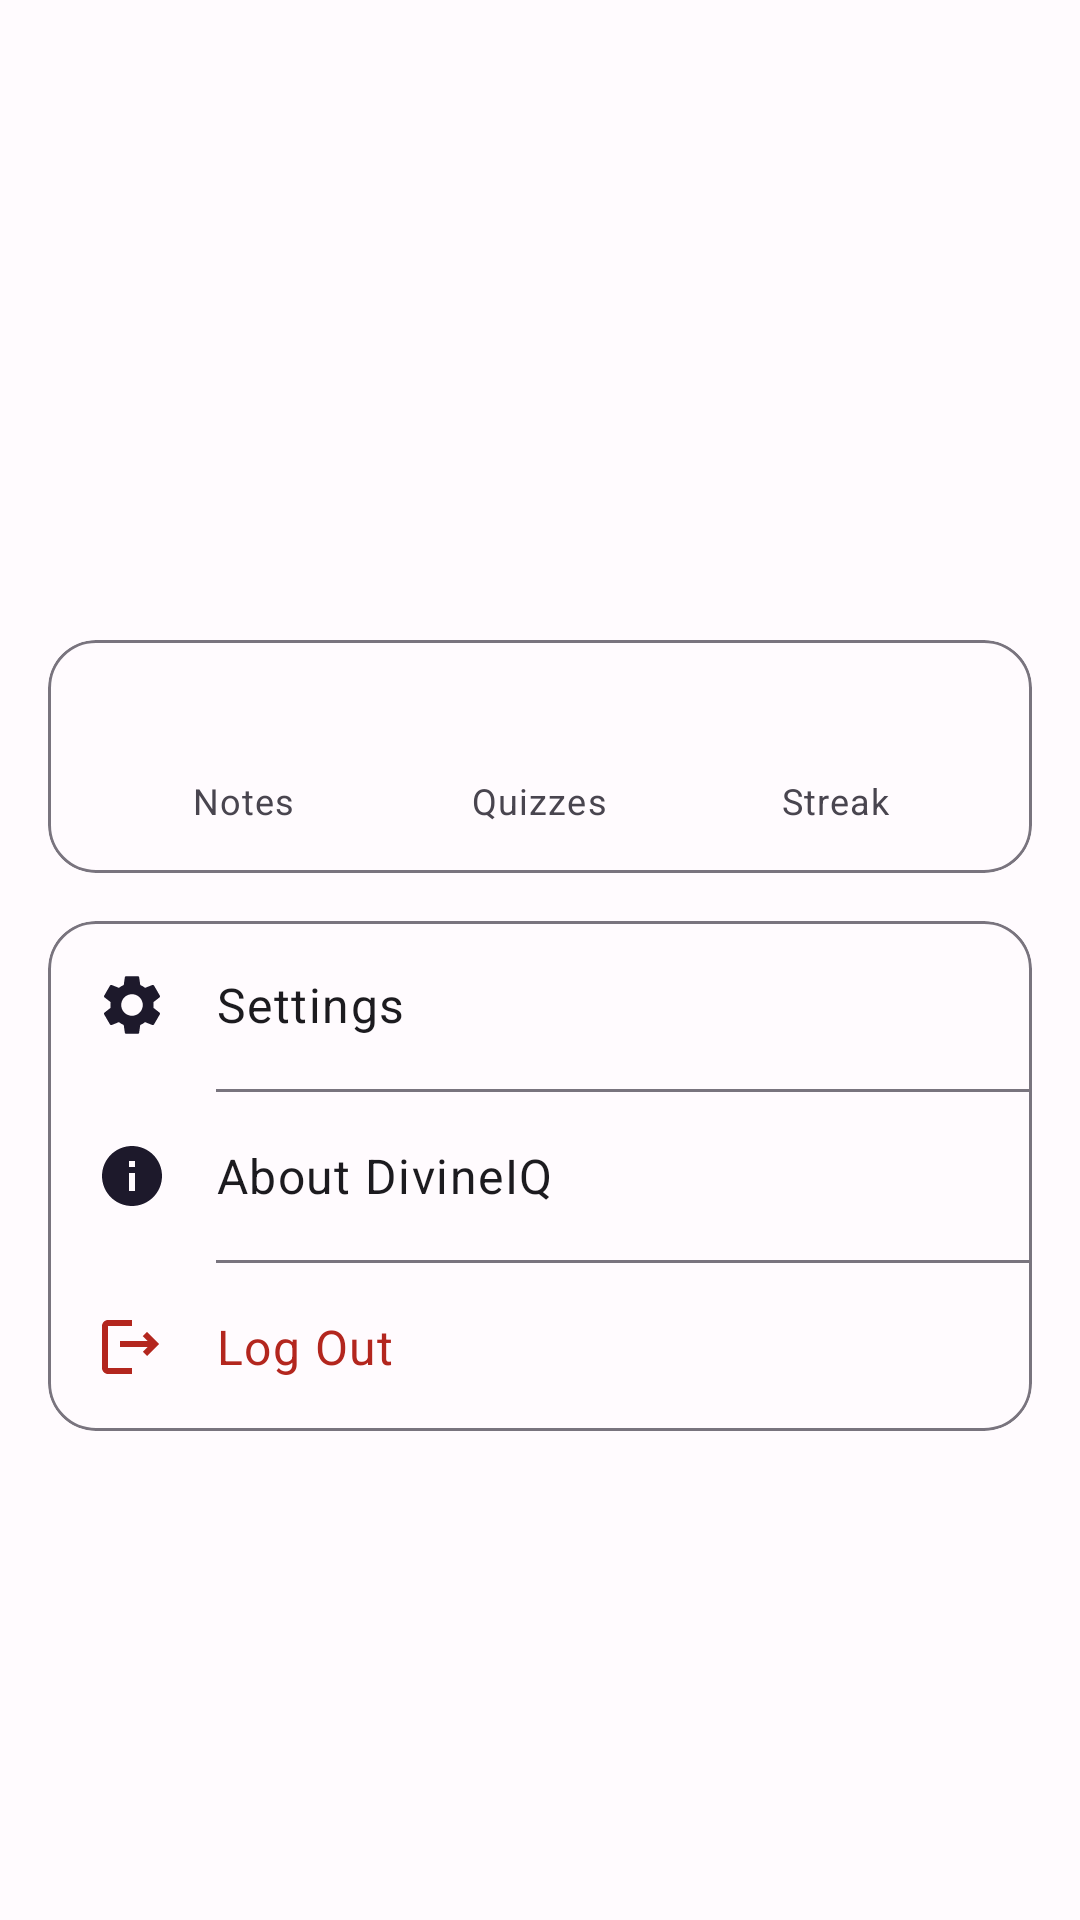

Where icons sit on this 1080 x 1920 app screen, as detection(x1, y1, x2, y2):
info: detection(102, 1146, 162, 1206)
